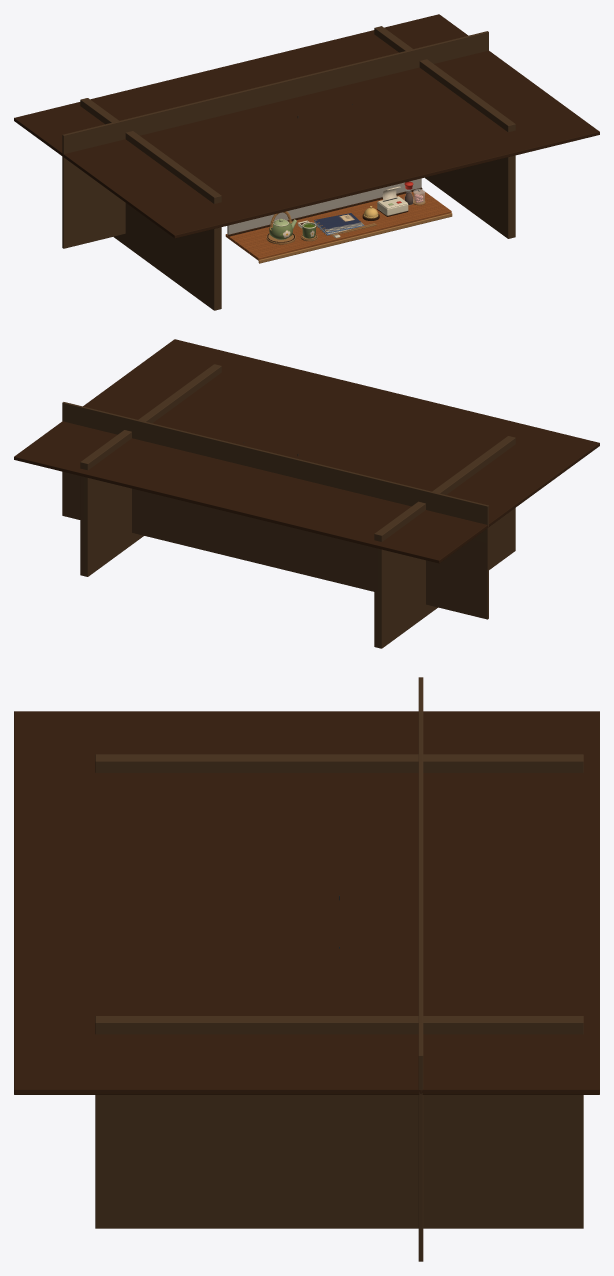
The model's file is sushi-bar.glb.
The picture shows the model from 3 angles, top to bottom: view 1: azimuth 30°, elevation 25°; view 2: azimuth 150°, elevation 25°; view 3: azimuth 270°, elevation 25°; orthographic projection. The views are drawn at different scales.
Visible parts, largest first — view 1: RESTAURANT · architecture · Smoked walnut, RESTAURANT · architecture · Warm lime plaster, RESTAURANT · architecture · Honey oak · fine grain, CONVEYOR · belt and rail · Brushed champagne steel, RESTAURANT · architecture · End-grain & bamboo, Menu painted cover, Conveyor lower oak trim, RESUME · receipt printer · Ivory glazed ceramic; view 2: RESTAURANT · architecture · Smoked walnut, RESTAURANT · architecture · Warm lime plaster; view 3: RESTAURANT · architecture · Smoked walnut, RESTAURANT · architecture · Warm lime plaster.
Boxes of the visible parts, box(x1,y1,x2,y2) form: RESTAURANT · architecture · Smoked walnut: box(14, 14, 599, 238); RESTAURANT · architecture · Warm lime plaster: box(62, 26, 515, 310); RESTAURANT · architecture · Honey oak · fine grain: box(225, 189, 451, 260); CONVEYOR · belt and rail · Brushed champagne steel: box(227, 178, 421, 234); RESTAURANT · architecture · End-grain & bamboo: box(258, 213, 452, 263); Menu painted cover: box(314, 213, 363, 232); Conveyor lower oak trim: box(228, 187, 422, 236); RESUME · receipt printer · Ivory glazed ceramic: box(377, 196, 408, 215); RESTAURANT · architecture · Smoked walnut: box(14, 339, 599, 563); RESTAURANT · architecture · Warm lime plaster: box(62, 364, 515, 648); RESTAURANT · architecture · Smoked walnut: box(14, 711, 599, 1094); RESTAURANT · architecture · Warm lime plaster: box(95, 677, 583, 1261).
Bounding box in the file's own units: 55 × 15.5 × 36.
Materials: 34 (13 with a texture image).
